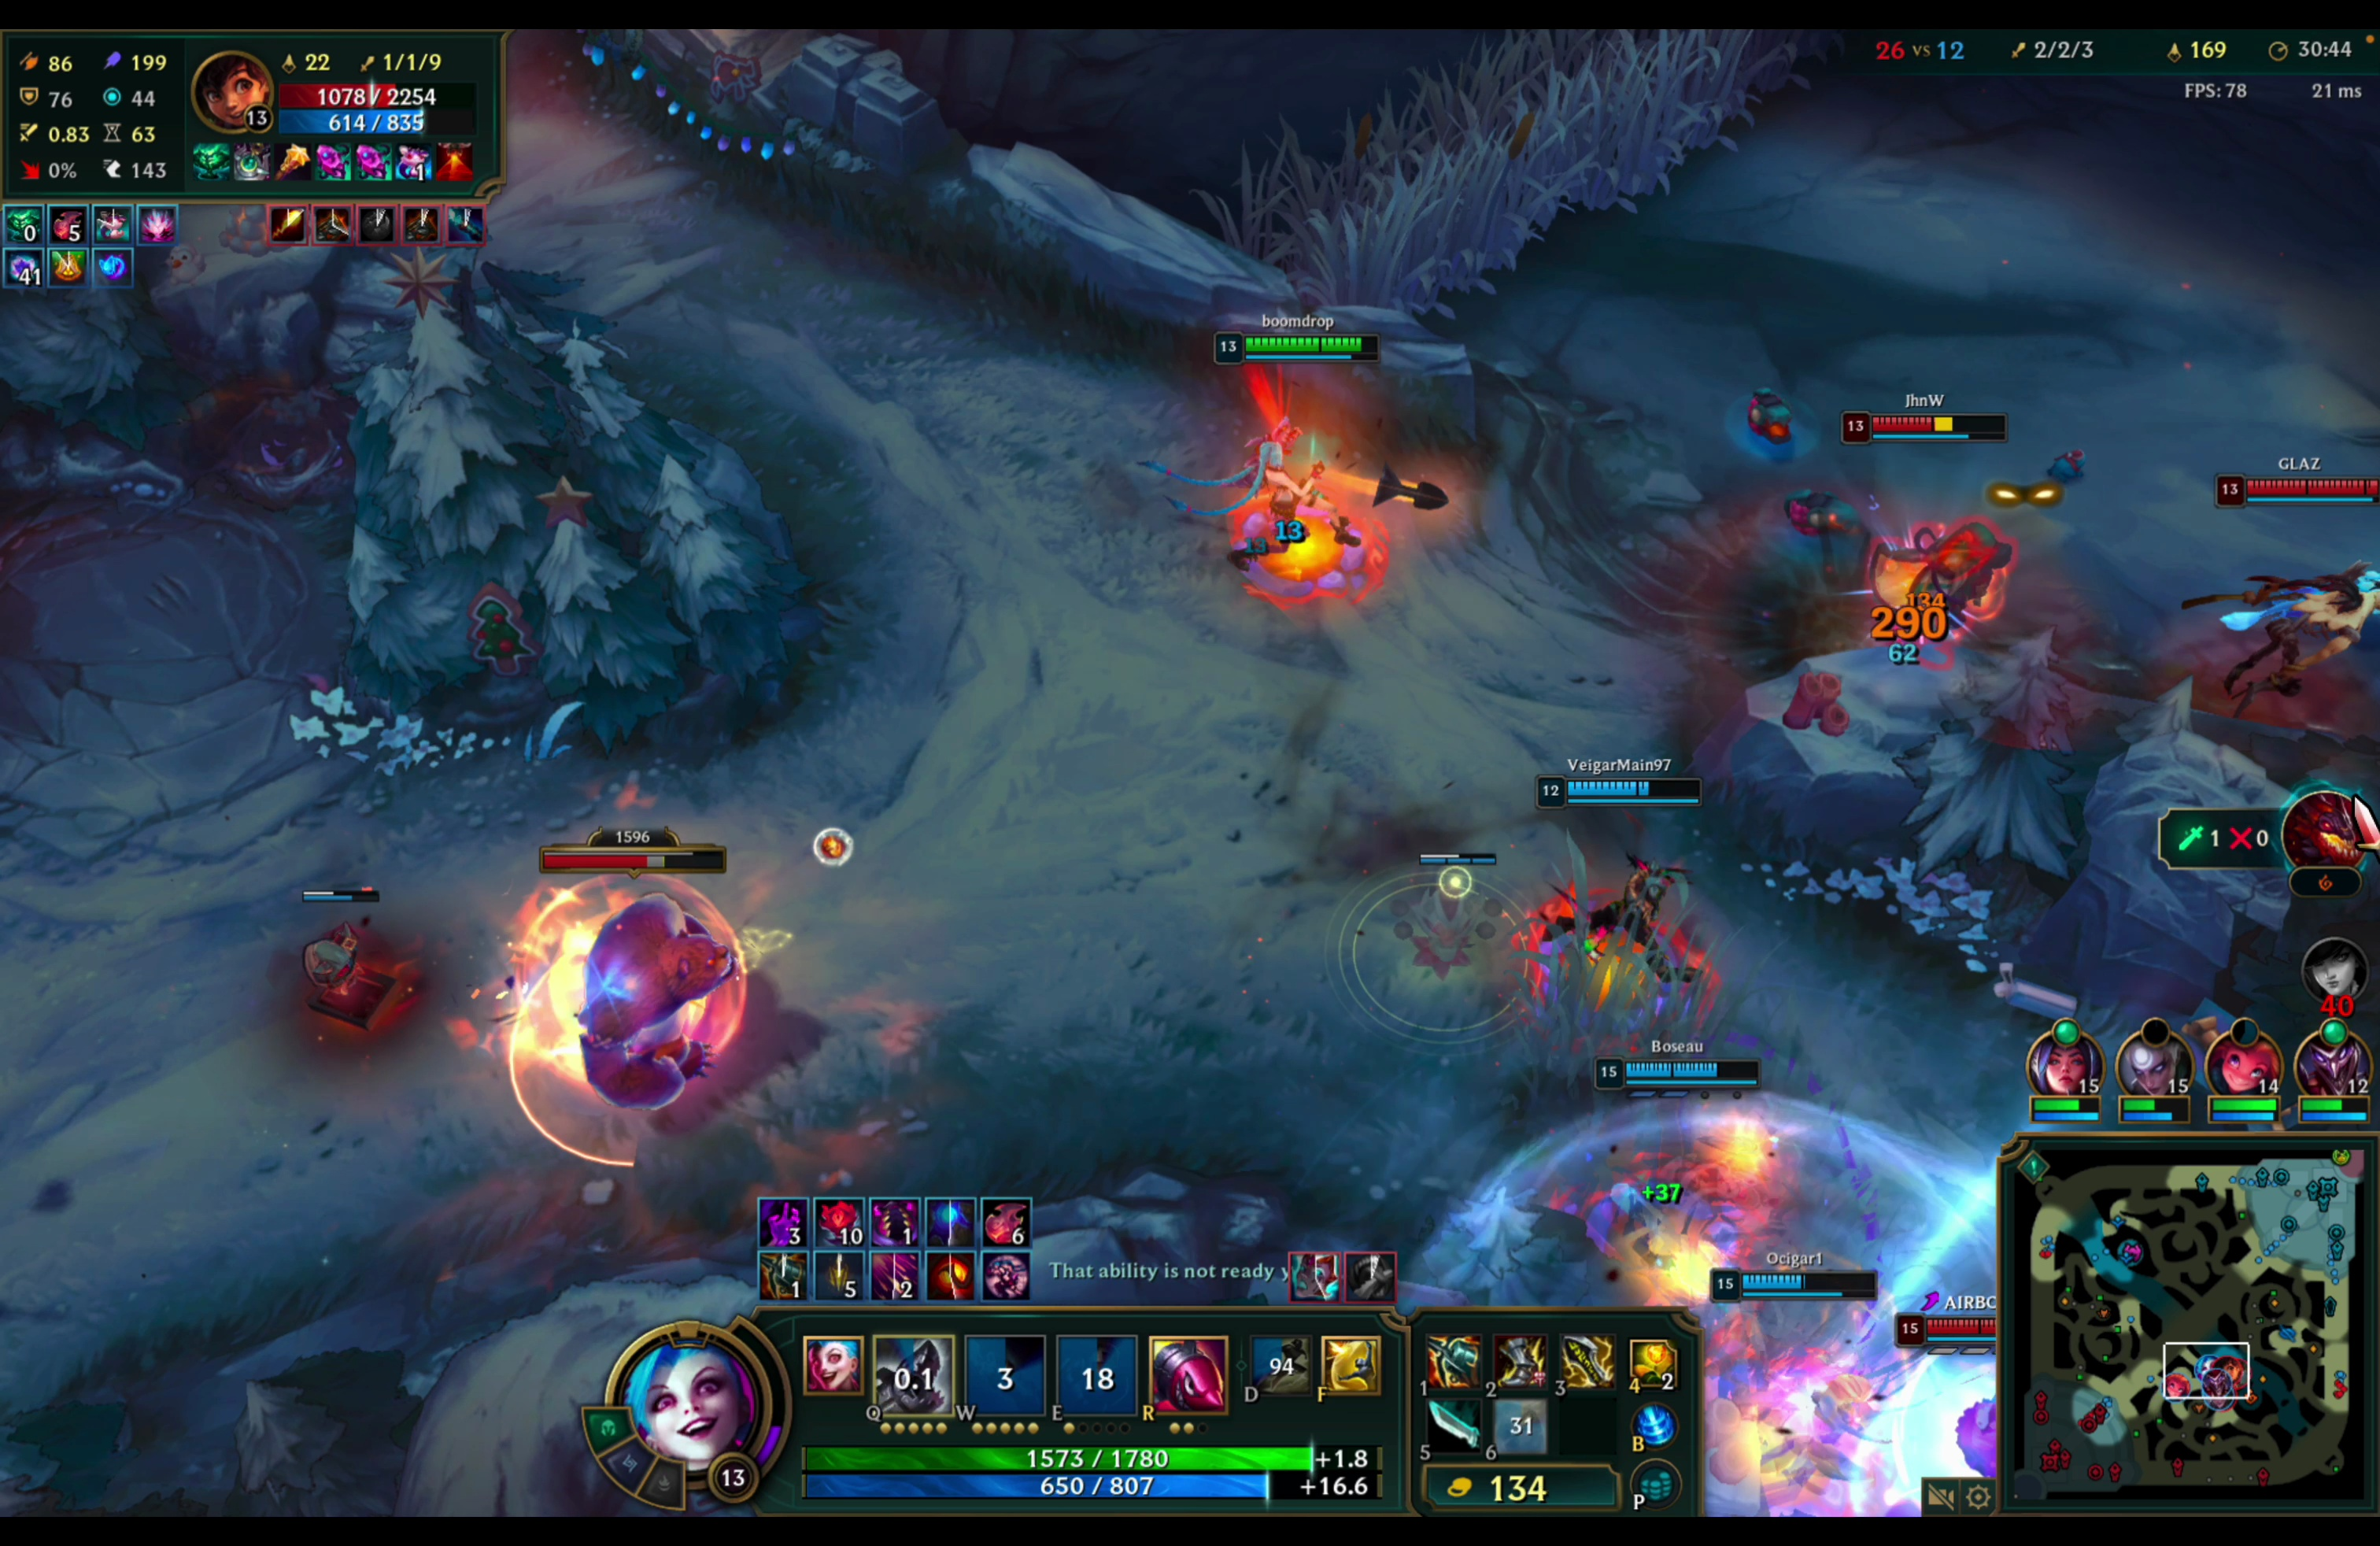JINX_W_IMPACT: (1750, 382, 2076, 696)
